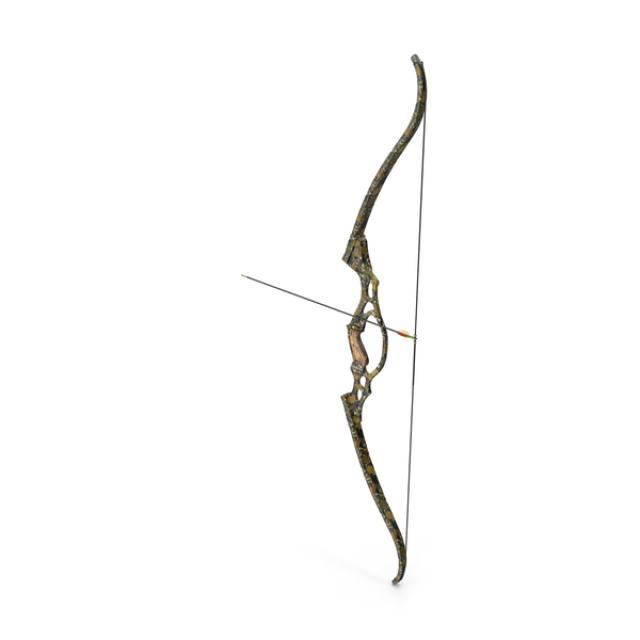X-Bow: (323, 32, 439, 596)
